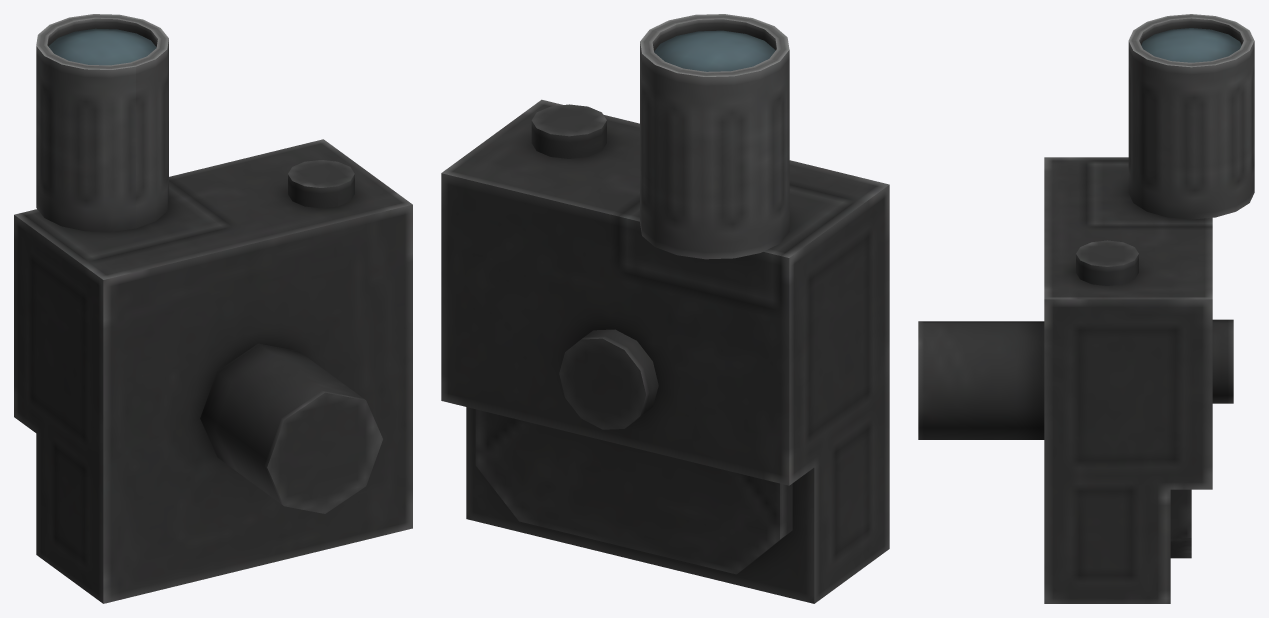
The model's file is 4mv_sensor_camera_s0_1.obj.
3 renders of one model, left to right at view 1: azimuth 30°, elevation 25°; view 2: azimuth 150°, elevation 25°; view 3: azimuth 270°, elevation 25°, orthographic. The views are drawn at different scales.
Parts seen in each view (by area): view 1: mesh1, lense1; view 2: mesh1, lense1; view 3: mesh1, lense1.
Boxes of the visible parts, x1,y1,x2,y2 form: mesh1: (14,14,412,603); lense1: (48,28,156,65); mesh1: (441,14,889,603); lense1: (654,30,775,71); mesh1: (918,14,1254,603); lense1: (1141,28,1241,62).
Size of the model in its own units: 0.2 by 0.3 by 0.2.
1 material, 1 textured.
